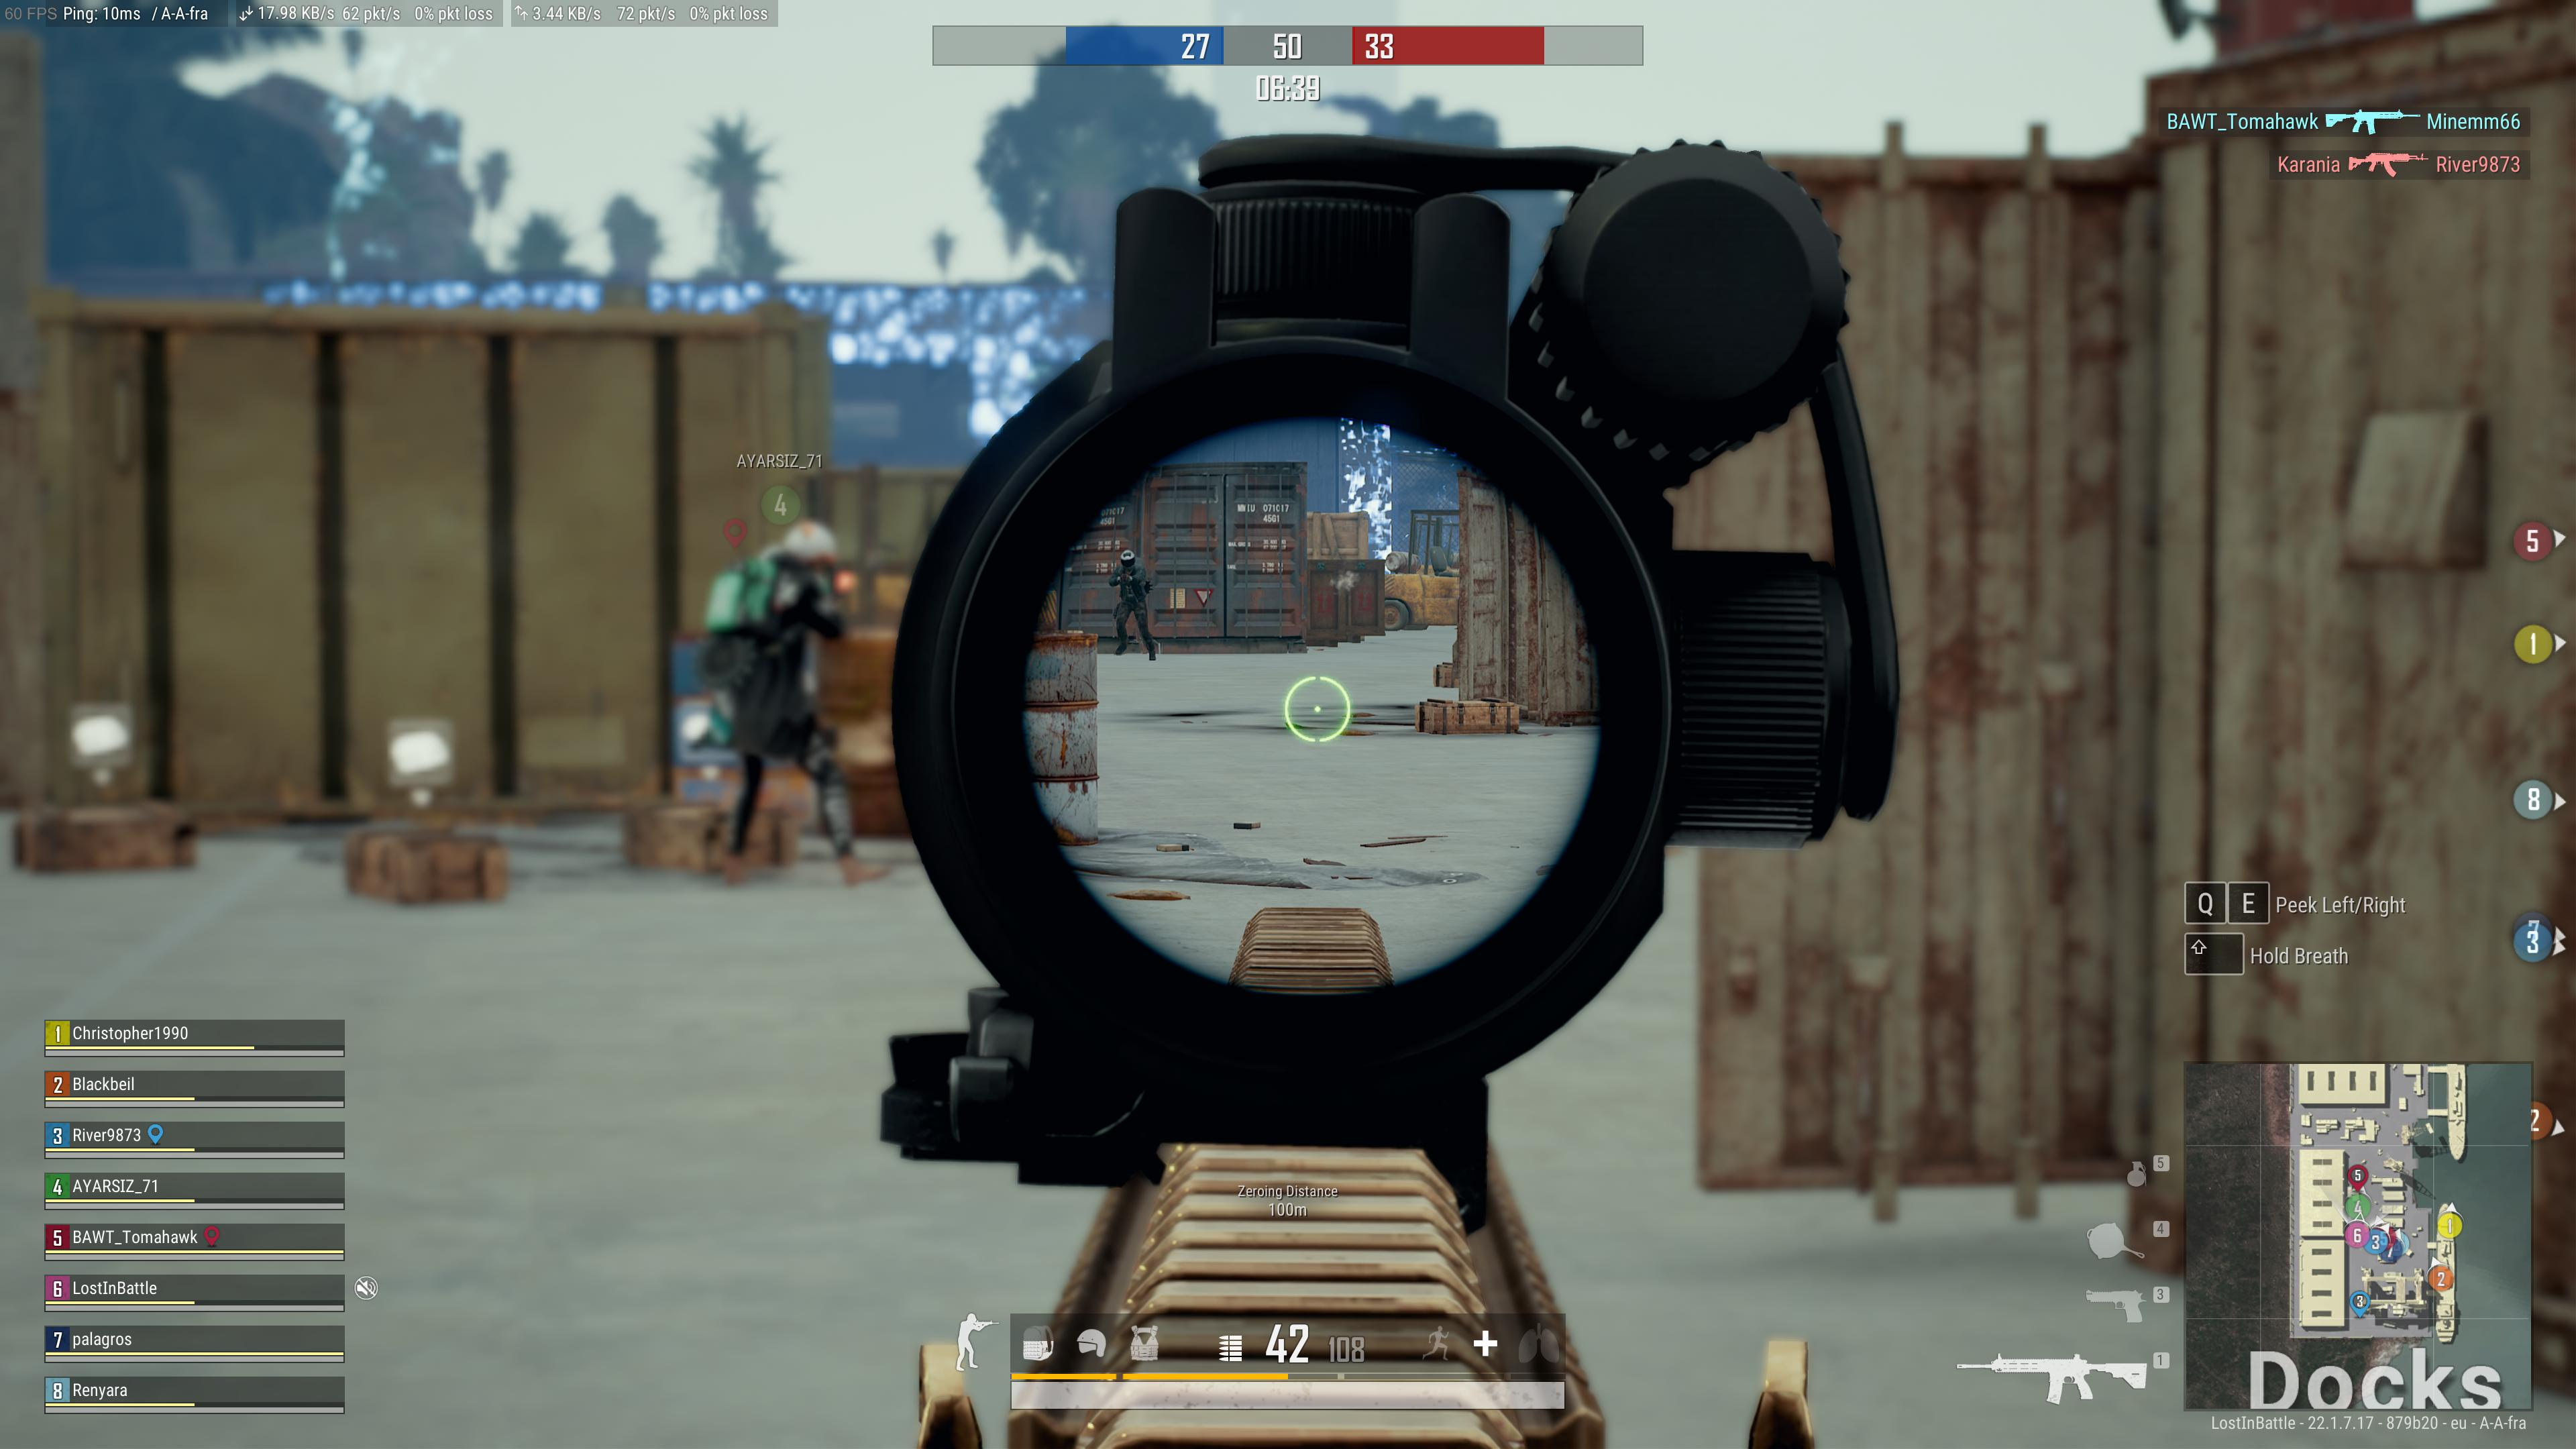enemy: (1108, 548, 1155, 662)
enemy_head: (1118, 548, 1136, 571)
friendly: (697, 494, 860, 878)
